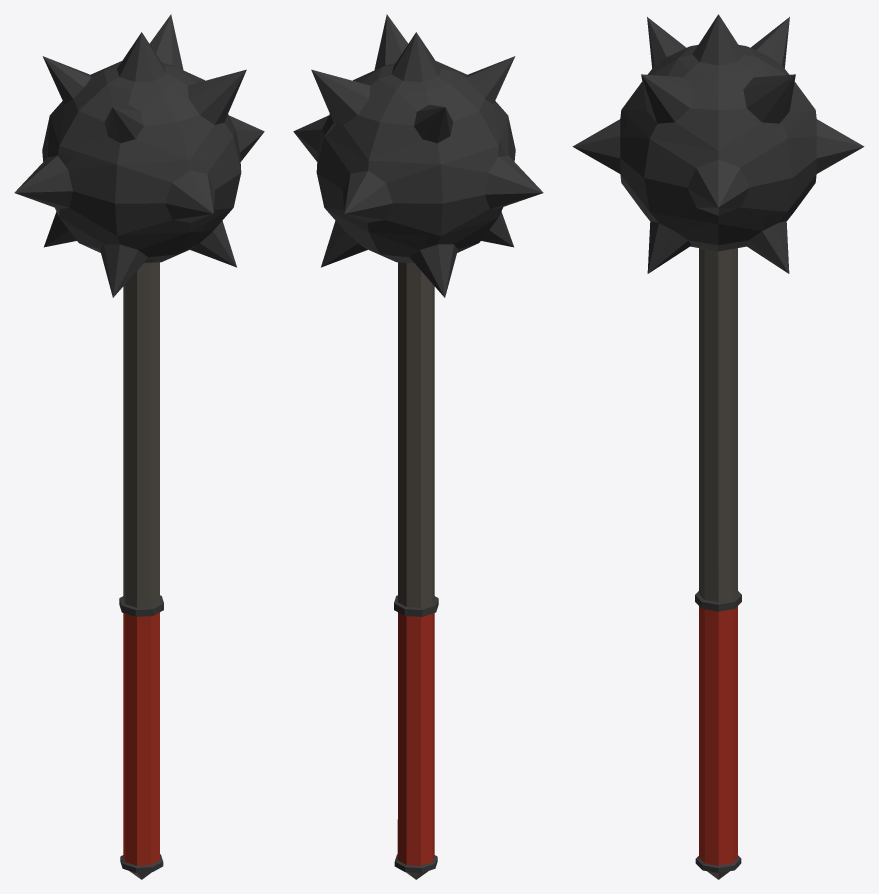
File: Morningstar_broken.fbx
3 views of the same model, side by side, from view 1: azimuth 30°, elevation 25°; view 2: azimuth 150°, elevation 25°; view 3: azimuth 270°, elevation 25° (orthographic). The views are drawn at different scales.
Visible parts, largest first — view 1: Morningstar, Morningstar_cell.004, Morningstar_cell.001, Morningstar_cell.003, Morningstar_cell.002, Morningstar_cell, Morningstar_cell.008; view 2: Morningstar, Morningstar_cell.002, Morningstar_cell.003, Morningstar_cell.008, Morningstar_cell.006, Morningstar_cell.007, Morningstar_cell.001; view 3: Morningstar, Morningstar_cell.001, Morningstar_cell.008, Morningstar_cell.009, Morningstar_cell.002, Morningstar_cell.006, Morningstar_cell, Morningstar_cell.007, Morningstar_cell.003, Morningstar_cell.004.
Part boxes in pixels (x1,y1,x2,y2): Morningstar: [14, 16, 264, 879]; Morningstar_cell.004: [49, 107, 218, 275]; Morningstar_cell.001: [119, 14, 245, 128]; Morningstar_cell.003: [34, 39, 153, 174]; Morningstar_cell.002: [15, 172, 153, 553]; Morningstar_cell: [178, 92, 262, 208]; Morningstar_cell.008: [119, 545, 163, 868]; Morningstar: [293, 14, 542, 874]; Morningstar_cell.002: [398, 176, 543, 554]; Morningstar_cell.003: [325, 57, 520, 212]; Morningstar_cell.008: [394, 548, 438, 872]; Morningstar_cell.006: [316, 155, 433, 267]; Morningstar_cell.007: [394, 662, 428, 874]; Morningstar_cell.001: [316, 33, 488, 157]; Morningstar: [572, 14, 863, 879]; Morningstar_cell.001: [641, 17, 795, 180]; Morningstar_cell.008: [696, 539, 741, 859]; Morningstar_cell.009: [632, 176, 773, 338]; Morningstar_cell.002: [704, 248, 737, 543]; Morningstar_cell.006: [762, 139, 863, 273]; Morningstar_cell: [622, 84, 744, 207]; Morningstar_cell.007: [719, 650, 741, 867]; Morningstar_cell.003: [677, 17, 850, 143]; Morningstar_cell.004: [575, 19, 660, 204].
Size of the model in its own units: 2.81 by 9.08 by 2.78.
